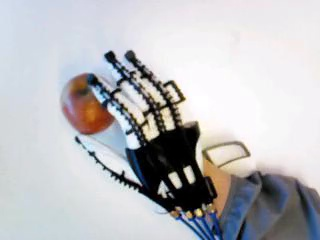apple: (60, 72, 118, 134)
hand: (73, 51, 219, 213)
